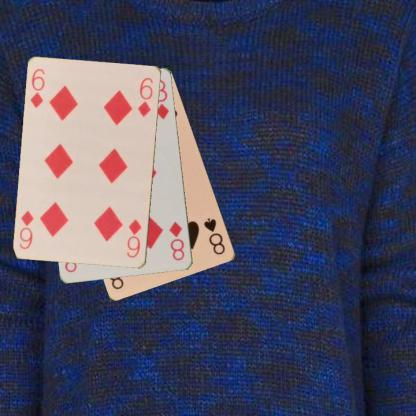6d: (124, 216, 143, 260), (28, 66, 46, 110)
8d: (166, 219, 186, 262)
8s: (202, 216, 227, 256)
